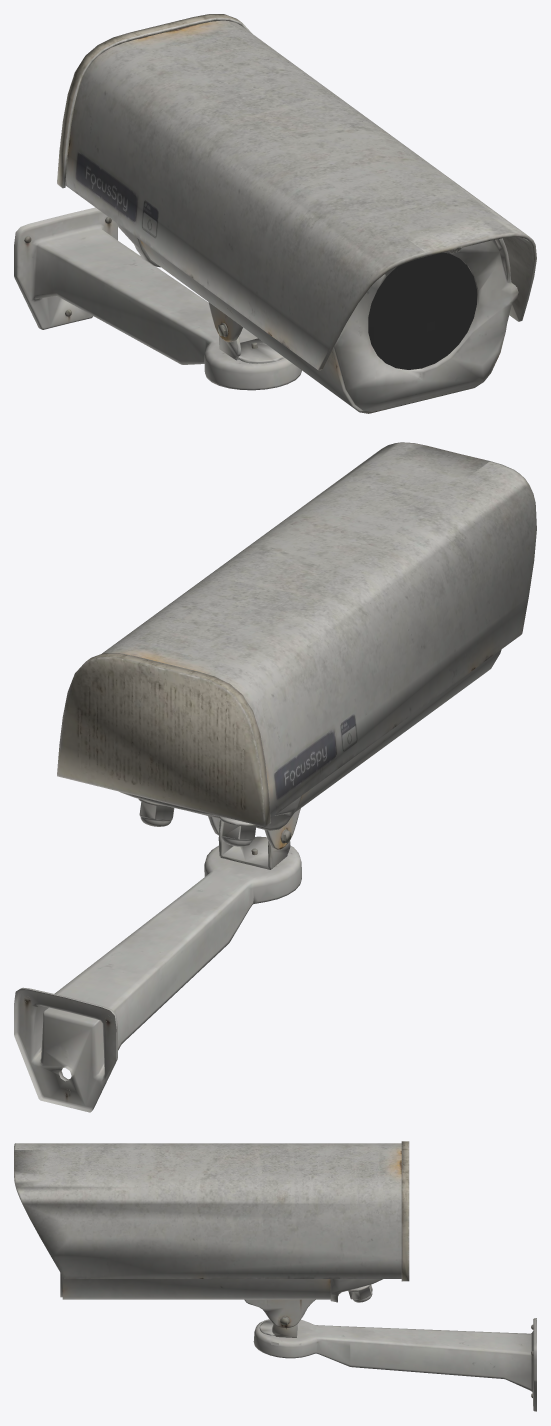
The model's file is cctv-security-camera.glb.
3 views of the same model, one above another, from view 1: azimuth 30°, elevation 25°; view 2: azimuth 150°, elevation 25°; view 3: azimuth 270°, elevation 25° (orthographic). The views are drawn at different scales.
Visible parts, largest first — view 1: security_camera_01; view 2: security_camera_01; view 3: security_camera_01.
Boxes of the visible parts, x1,y1,x2,y2 form: security_camera_01: (14, 14, 536, 413); security_camera_01: (14, 442, 536, 1112); security_camera_01: (14, 1141, 536, 1411).
Bounding box in the file's own units: 0.1695 × 0.2861 × 0.5537.
2 materials, 2 textured.
